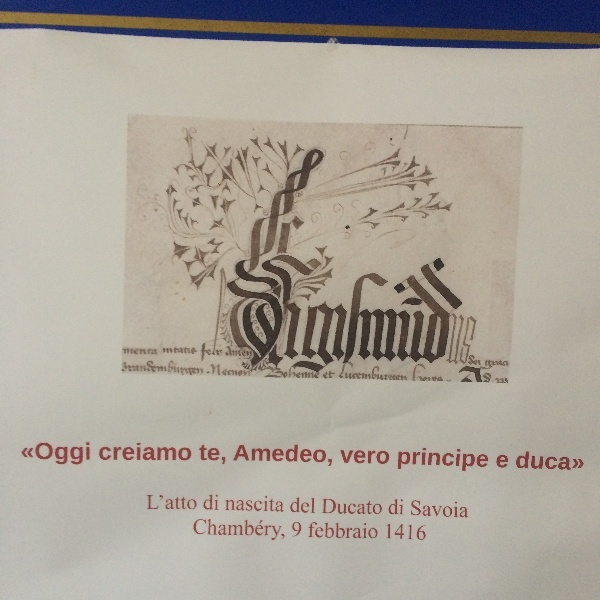text: (321, 265, 336, 368), (337, 265, 352, 368), (353, 265, 368, 368), (369, 265, 384, 368), (385, 265, 400, 368), (401, 265, 416, 368), (417, 265, 432, 368), (433, 265, 448, 368), (313, 265, 320, 368), (465, 314, 478, 367), (452, 314, 464, 367), (449, 265, 453, 368), (33, 440, 48, 467), (49, 440, 64, 467), (65, 440, 80, 467), (241, 444, 256, 470), (257, 444, 272, 470), (273, 444, 288, 470), (289, 444, 304, 470), (305, 444, 320, 470), (401, 447, 416, 473), (417, 447, 432, 473), (433, 447, 448, 473), (449, 447, 464, 473), (465, 447, 480, 473), (209, 518, 224, 543), (225, 518, 240, 543), (241, 518, 256, 543), (257, 518, 272, 543), (113, 441, 128, 464), (129, 441, 144, 464), (145, 441, 160, 464), (161, 441, 176, 464), (177, 441, 192, 464), (353, 361, 368, 383), (369, 361, 384, 383), (385, 361, 400, 383), (209, 444, 224, 466), (529, 450, 544, 472), (545, 450, 560, 472), (561, 450, 576, 472), (195, 518, 208, 543), (417, 362, 432, 383), (433, 362, 448, 383), (321, 444, 333, 470), (161, 493, 176, 513), (177, 493, 192, 513), (273, 518, 285, 543), (321, 521, 336, 541), (337, 521, 352, 541), (353, 521, 368, 541), (417, 500, 432, 520), (433, 500, 448, 520), (449, 500, 464, 520), (99, 441, 112, 464), (209, 342, 223, 362), (129, 359, 144, 377), (145, 359, 160, 377), (161, 359, 176, 377), (177, 359, 192, 377), (22, 440, 32, 467), (81, 440, 91, 467), (241, 495, 256, 513), (257, 495, 272, 513), (401, 523, 416, 541), (337, 498, 352, 515), (353, 498, 368, 515), (226, 495, 240, 513), (341, 361, 352, 383), (305, 365, 321, 380), (148, 493, 160, 513), (322, 498, 336, 515), (387, 523, 400, 541), (273, 365, 288, 380), (289, 365, 304, 380), (353, 449, 368, 464), (369, 449, 384, 464), (291, 498, 304, 515), (369, 498, 382, 515), (309, 521, 320, 541), (518, 450, 528, 472), (481, 447, 489, 473), (193, 359, 204, 377), (273, 495, 284, 513), (389, 498, 400, 516), (225, 364, 240, 377), (497, 455, 512, 468), (292, 522, 304, 538), (210, 364, 224, 377), (369, 521, 378, 541), (200, 444, 208, 466), (577, 450, 585, 472), (209, 494, 219, 511), (305, 498, 315, 515), (226, 346, 240, 358), (341, 449, 352, 464), (417, 523, 426, 541), (401, 361, 408, 383), (497, 360, 510, 371), (241, 346, 252, 358), (324, 369, 336, 380), (241, 364, 251, 377), (470, 354, 480, 366), (177, 347, 192, 355), (202, 342, 208, 362), (486, 360, 496, 371), (122, 359, 128, 377), (129, 348, 144, 355), (163, 347, 176, 355), (411, 500, 416, 520), (145, 348, 158, 355), (266, 365, 272, 380), (193, 493, 197, 513), (465, 500, 469, 520), (385, 449, 390, 464), (449, 362, 452, 383), (401, 498, 404, 516), (205, 494, 208, 511), (225, 444, 227, 466), (123, 348, 128, 355), (193, 347, 197, 355), (239, 444, 240, 470), (399, 447, 400, 473), (415, 362, 416, 383), (481, 354, 482, 366)
